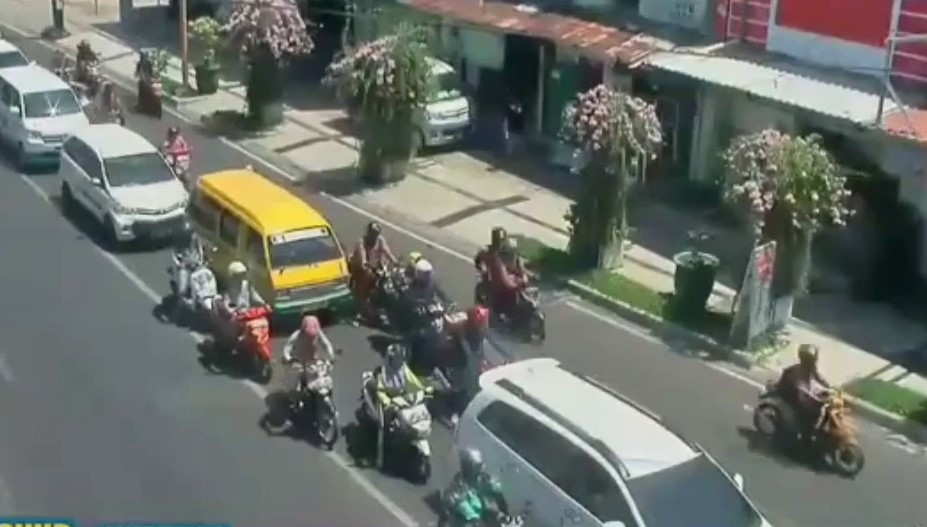car: (458, 355, 771, 527), (62, 121, 186, 246), (1, 64, 88, 172), (394, 50, 478, 152)
motorbike: (755, 333, 867, 485), (365, 346, 435, 480), (279, 312, 342, 459), (442, 306, 514, 431), (474, 224, 545, 343), (214, 262, 271, 385), (398, 256, 446, 381), (165, 221, 217, 327), (352, 218, 402, 326), (442, 451, 511, 527), (161, 127, 195, 192), (137, 49, 164, 121), (95, 80, 124, 136), (76, 41, 101, 89)
